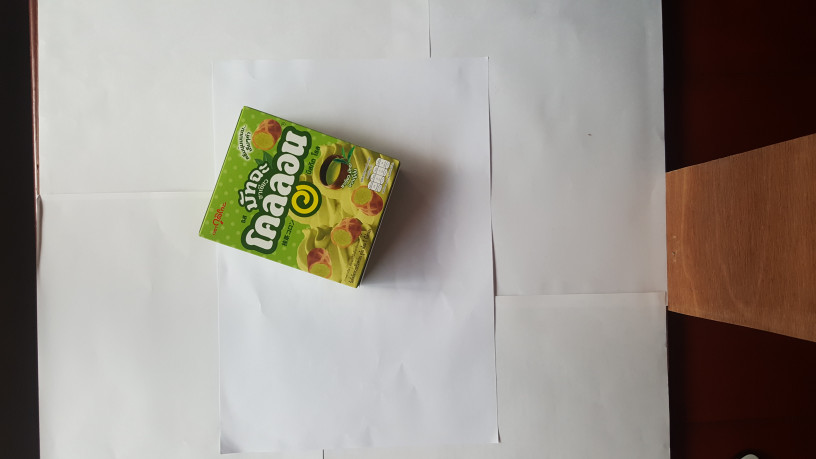collon-matcha: (196, 103, 401, 288)
